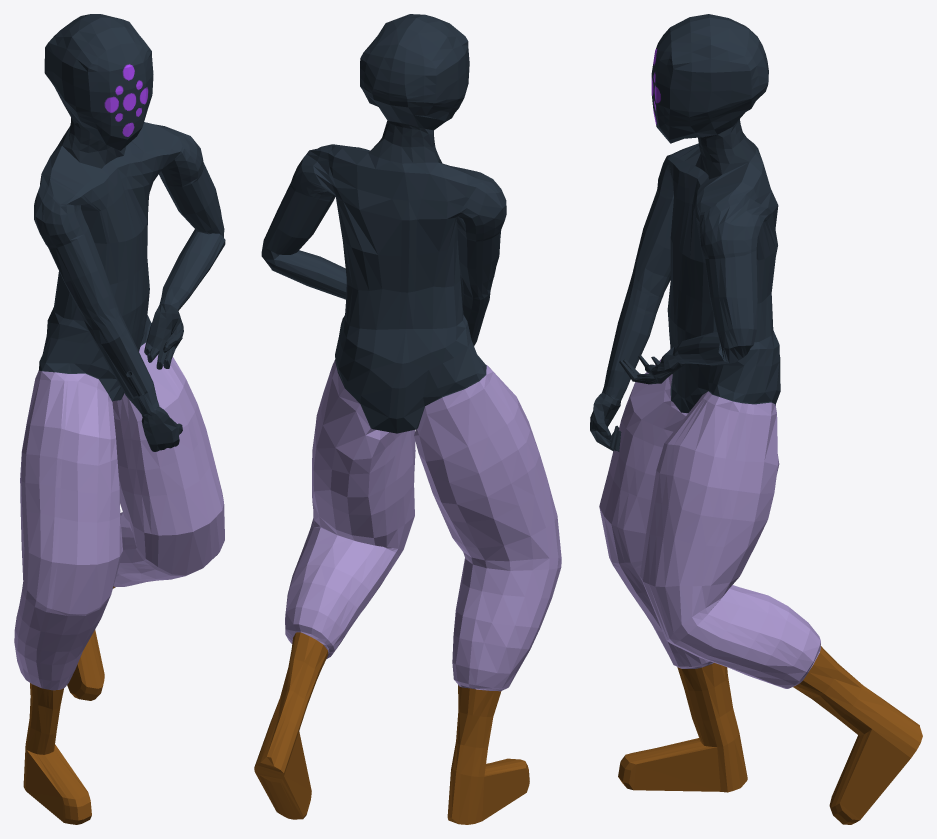
Rendered from Oracle_Run_000019.obj.
3 renders of one model, left to right at view 1: azimuth 30°, elevation 25°; view 2: azimuth 150°, elevation 25°; view 3: azimuth 270°, elevation 25°, orthographic. The views are drawn at different scales.
Visible parts, largest first — view 1: Cube; view 2: Cube; view 3: Cube.
Part boxes in pixels (x1,y1,x2,y2): Cube: (14,14,225,824); Cube: (254,14,561,824); Cube: (590,14,922,824).
Size of the model in its own units: 1.26 by 3.81 by 1.44.
